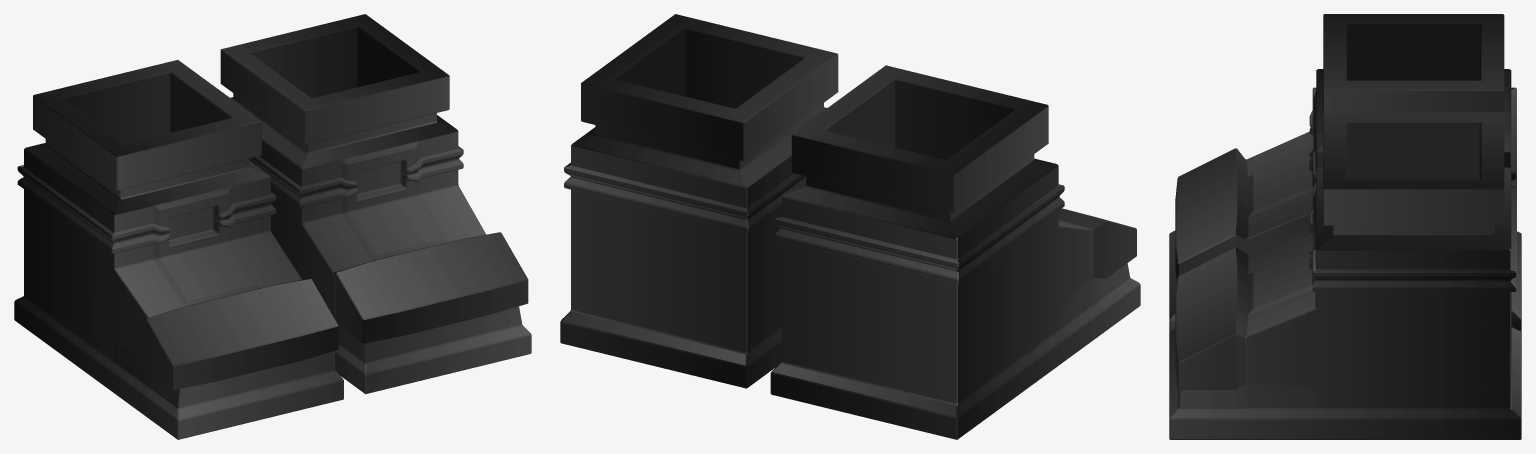
The model's file is Boots Separated.fbx.
The picture shows the model from 3 angles, left to right: view 1: azimuth 30°, elevation 25°; view 2: azimuth 150°, elevation 25°; view 3: azimuth 270°, elevation 25°; orthographic projection. The views are drawn at different scales.
Visible parts, largest first — view 1: Cube.001, Cube.002; view 2: Cube.001, Cube.002; view 3: Cube.002, Cube.001.
Boxes of the visible parts, left/top/right/bottom form: Cube.001: left=14, top=60, right=343, bottom=439; Cube.002: left=220, top=14, right=531, bottom=394; Cube.001: left=770, top=65, right=1140, bottom=439; Cube.002: left=560, top=14, right=838, bottom=388; Cube.002: left=1169, top=112, right=1521, bottom=439; Cube.001: left=1169, top=14, right=1521, bottom=331.
Bounding box in the file's own units: 50.89 × 31.36 × 40.67.
1 material, 1 textured.
